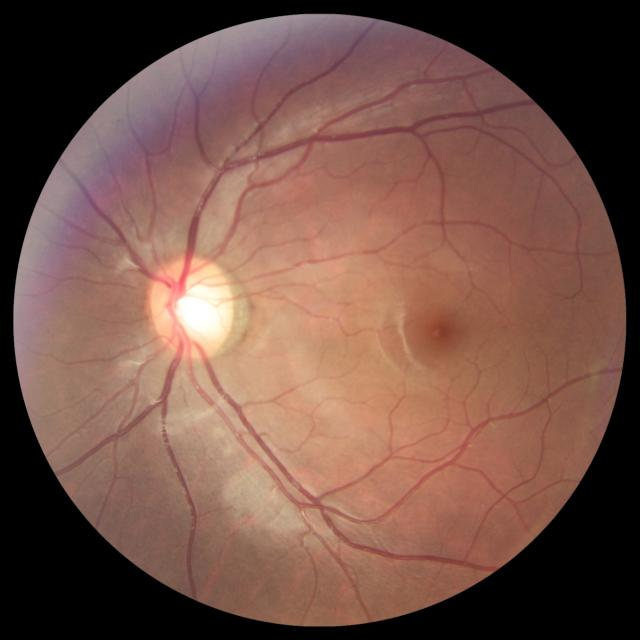OC: (168, 280, 218, 343)
OD: (149, 254, 235, 360)
